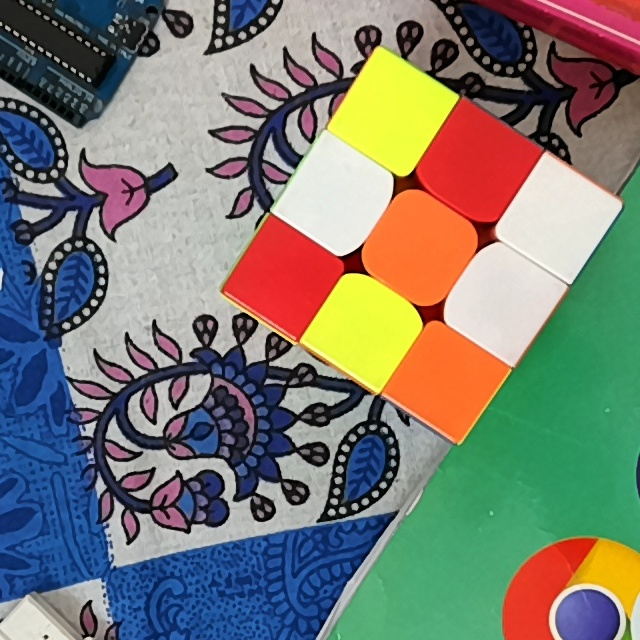tile: (442, 129, 511, 199), (384, 216, 454, 284), (467, 268, 534, 333), (525, 184, 591, 249), (304, 164, 371, 228), (413, 349, 479, 412), (254, 245, 319, 306), (357, 85, 423, 145), (334, 299, 398, 357)
